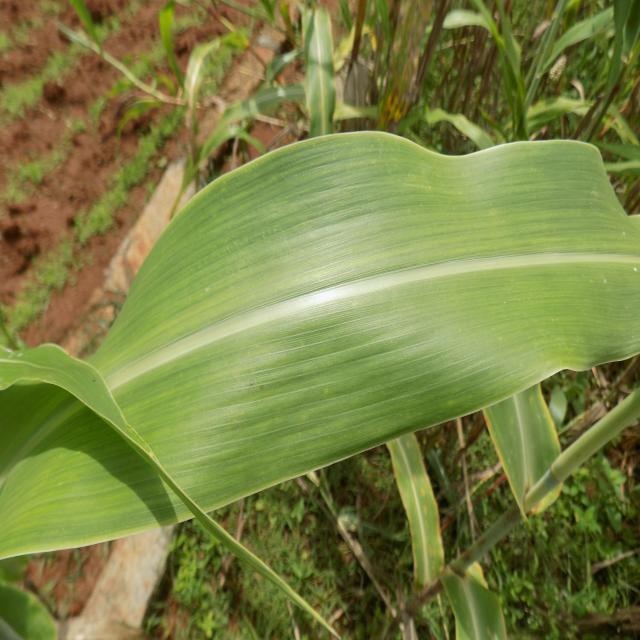millet_healthy: (1, 131, 640, 563), (3, 344, 339, 630), (447, 0, 616, 124), (481, 383, 570, 515), (388, 440, 444, 580), (303, 8, 339, 131), (449, 570, 508, 640)
